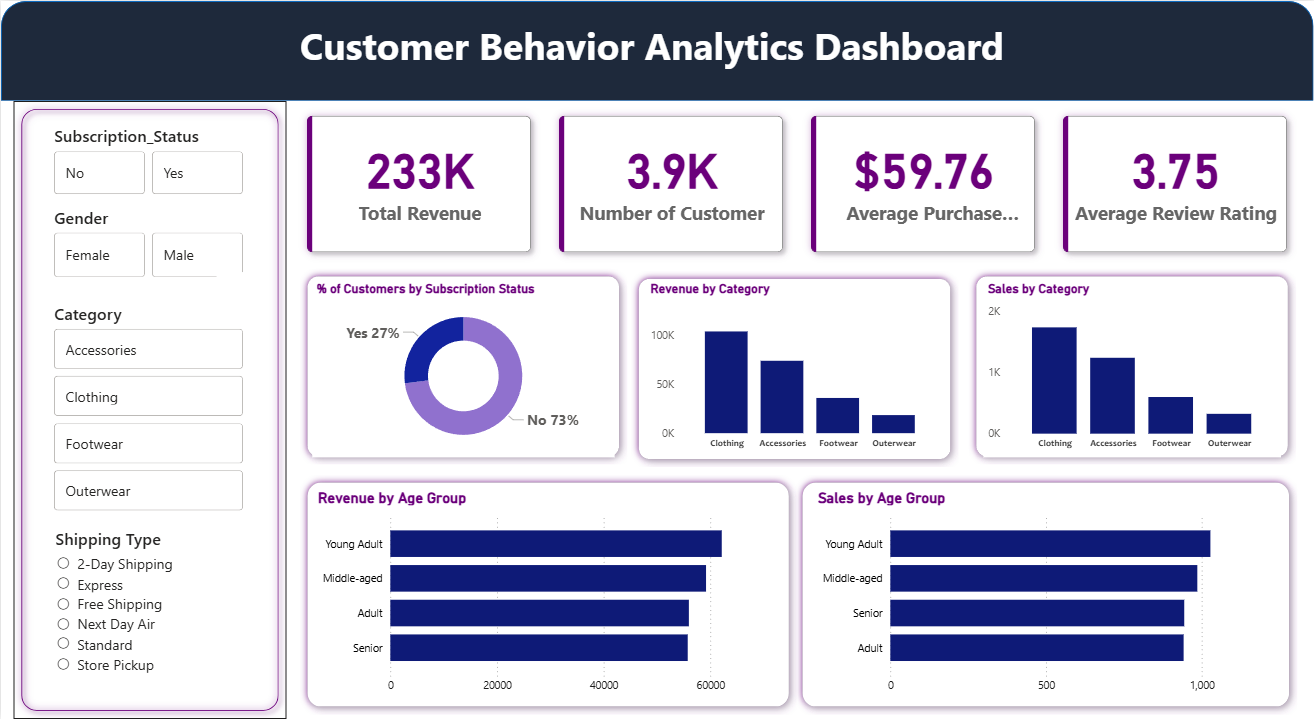

The dashboard page shown, as its layout file describes it:
{"tool":"powerbi","page":{"name":"Page 1","canvas":[1500,820],"ordinal":0},"visuals":[{"type":"cardVisual","fields":{"Data":["public customer.Total Revenue","public customer.Number of Customer","public customer.Average Purchase Amount","public customer.Average Review Rating"]},"box":[332.7,114.5,1157.3,190.9],"z":0},{"type":"shape","box":[0,0,1500,114],"z":1000},{"type":"textbox","box":[0,16,1500,98],"z":2000},{"type":"shape","box":[342,306,374,224],"z":3000},{"type":"donutChart","title":"% of Customers by Subscription  Status","fields":{"Category":["public customer.subscription_status"],"Y":["CountNonNull(public customer.customer_id)"]},"box":[355.7,320,345.7,201.4],"z":4000},{"type":"shape","box":[720,308,374,224],"z":5000},{"type":"shape","box":[1106,306,374,224],"z":6000},{"type":"clusteredColumnChart","title":"Revenue by Category","fields":{"Y":["Sum(public customer.purchase_amount)"],"Category":["public customer.category"]},"box":[736.7,320,340,201.1],"z":7000},{"type":"clusteredColumnChart","title":"Sales by Category","fields":{"Y":["CountNonNull(public customer.customer_id)"],"Category":["public customer.category"]},"box":[1123.3,320,340,201.7],"z":8000},{"type":"shape","box":[14,114,312,706],"z":9000},{"type":"advancedSlicerVisual","title":"Subscription_Status","fields":{"Values":["public customer.subscription_status"]},"box":[56,142,226,84],"z":10000},{"type":"advancedSlicerVisual","title":"Gender","fields":{"Values":["public customer.gender"]},"box":[56,234,226,86],"z":11000},{"type":"advancedSlicerVisual","title":"Category","fields":{"Values":["public customer.category"]},"box":[56,344,226,246],"z":12000},{"type":"listSlicer","title":"Shipping Type","fields":{"Values":["public customer.shipping_type"]},"box":[56.7,601.7,226.7,218.3],"z":13000},{"type":"shape","box":[340.9,541,568,274],"z":14000},{"type":"clusteredBarChart","title":"Revenue by Age Group","fields":{"Y":["Sum(public customer.purchase_amount)"],"Category":["public customer.age_group"]},"box":[356.7,556.7,536.7,243.3],"z":15000},{"type":"shape","box":[906.9,541,574,274],"z":16000},{"type":"clusteredBarChart","title":"Sales by Age Group","fields":{"Category":["public customer.age_group"],"Y":["CountNonNull(public customer.customer_id)"]},"box":[928.3,556.7,535,243.3],"z":17000}]}

Visuals, with their boxes in screenshot pixels (x1, y1, x2, y2), scaled from the page's 1500x820 canvas onto the 1314x719 screenshot:
cardVisual - public customer.Total Revenue x public customer.Number of Customer: {"x1": 291, "y1": 100, "x2": 1305, "y2": 268}
shape: {"x1": 0, "y1": 0, "x2": 1313, "y2": 100}
textbox: {"x1": 0, "y1": 14, "x2": 1313, "y2": 100}
shape: {"x1": 300, "y1": 268, "x2": 627, "y2": 465}
"% of Customers by Subscription  Status" donutChart: {"x1": 312, "y1": 281, "x2": 614, "y2": 457}
shape: {"x1": 631, "y1": 270, "x2": 958, "y2": 466}
shape: {"x1": 969, "y1": 268, "x2": 1296, "y2": 465}
"Revenue by Category" clusteredColumnChart: {"x1": 645, "y1": 281, "x2": 943, "y2": 457}
"Sales by Category" clusteredColumnChart: {"x1": 984, "y1": 281, "x2": 1282, "y2": 457}
shape: {"x1": 12, "y1": 100, "x2": 286, "y2": 718}
"Subscription_Status" advancedSlicerVisual: {"x1": 49, "y1": 125, "x2": 247, "y2": 198}
"Gender" advancedSlicerVisual: {"x1": 49, "y1": 205, "x2": 247, "y2": 281}
"Category" advancedSlicerVisual: {"x1": 49, "y1": 302, "x2": 247, "y2": 517}
"Shipping Type" listSlicer: {"x1": 50, "y1": 528, "x2": 248, "y2": 718}
shape: {"x1": 299, "y1": 474, "x2": 796, "y2": 715}
"Revenue by Age Group" clusteredBarChart: {"x1": 312, "y1": 488, "x2": 783, "y2": 701}
shape: {"x1": 794, "y1": 474, "x2": 1297, "y2": 715}
"Sales by Age Group" clusteredBarChart: {"x1": 813, "y1": 488, "x2": 1282, "y2": 701}
